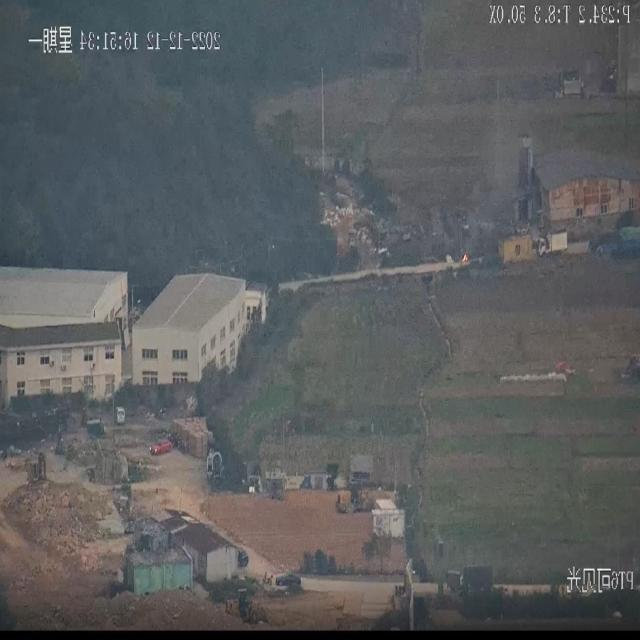Fire: (461, 252, 469, 264)
